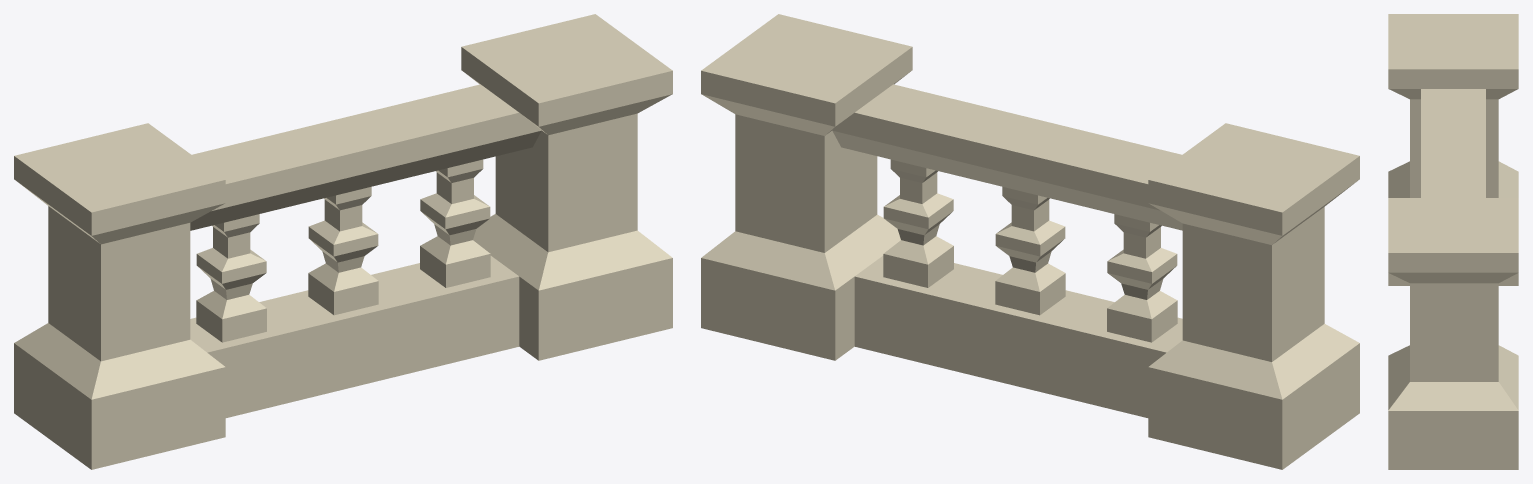
The model's file is roman_fence_stone.fbx.
The picture shows the model from 3 angles, left to right: view 1: azimuth 30°, elevation 25°; view 2: azimuth 150°, elevation 25°; view 3: azimuth 270°, elevation 25°; orthographic projection. The views are drawn at different scales.
Parts seen in each view (by area): view 1: Cube; view 2: Cube; view 3: Cube.
Boxes of the visible parts, <box> form: Cube: <box>14,14,672,469</box>; Cube: <box>701,14,1359,469</box>; Cube: <box>1388,14,1518,469</box>.
Size of the model in its own units: 2.6 by 1.1 by 0.6.
